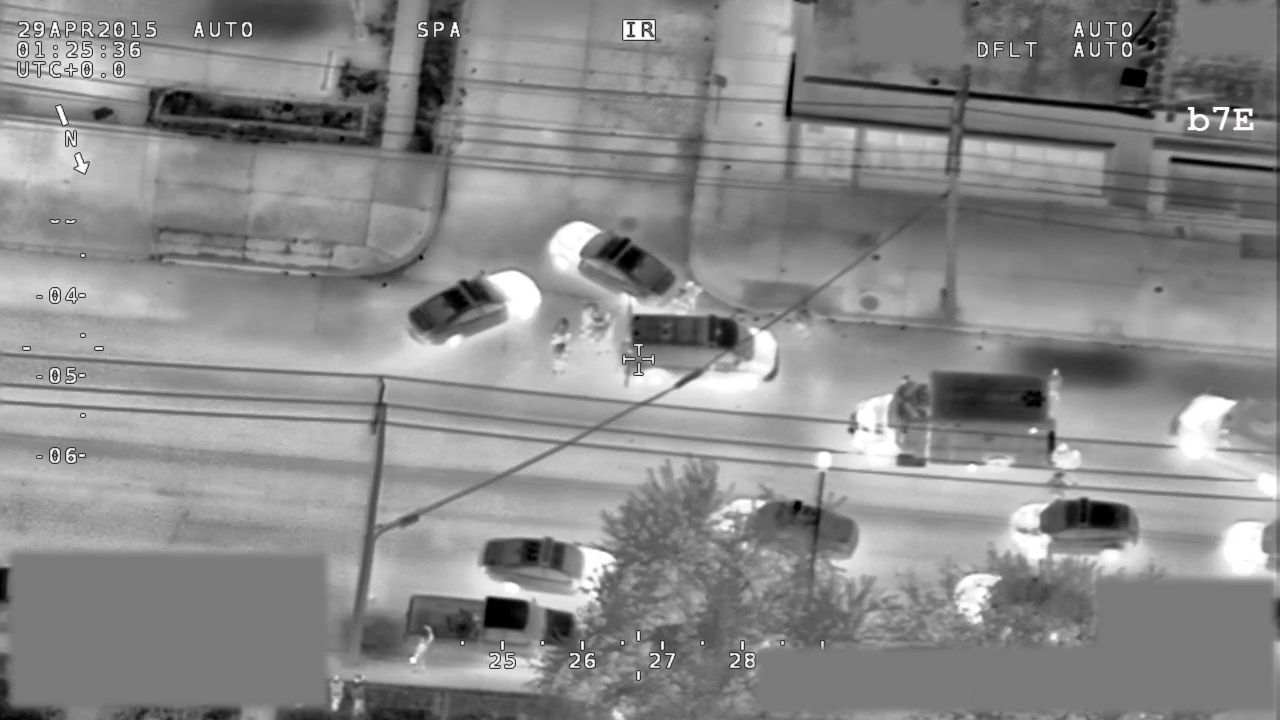vehicle: (846, 367, 1074, 467), (396, 587, 582, 665), (1167, 385, 1280, 497), (405, 264, 546, 353), (543, 219, 680, 308), (708, 494, 866, 569), (626, 312, 784, 383), (947, 567, 1097, 640), (477, 532, 625, 597), (1007, 497, 1143, 562), (1218, 513, 1280, 572)
